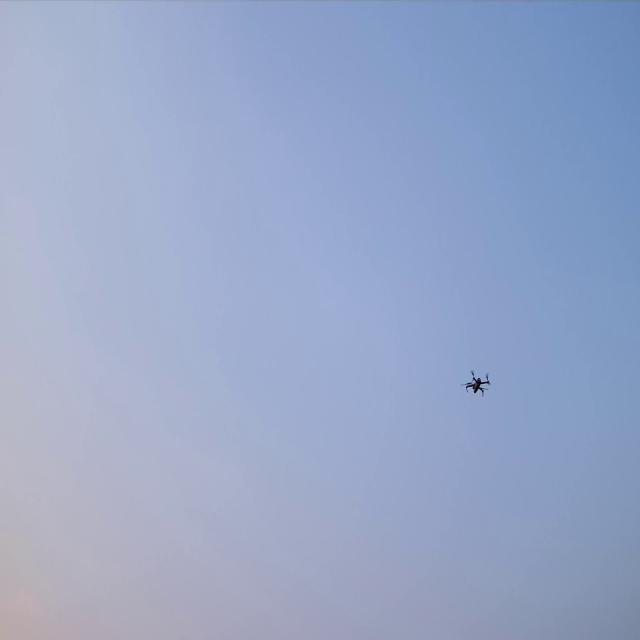UAV: (460, 368, 491, 399)
